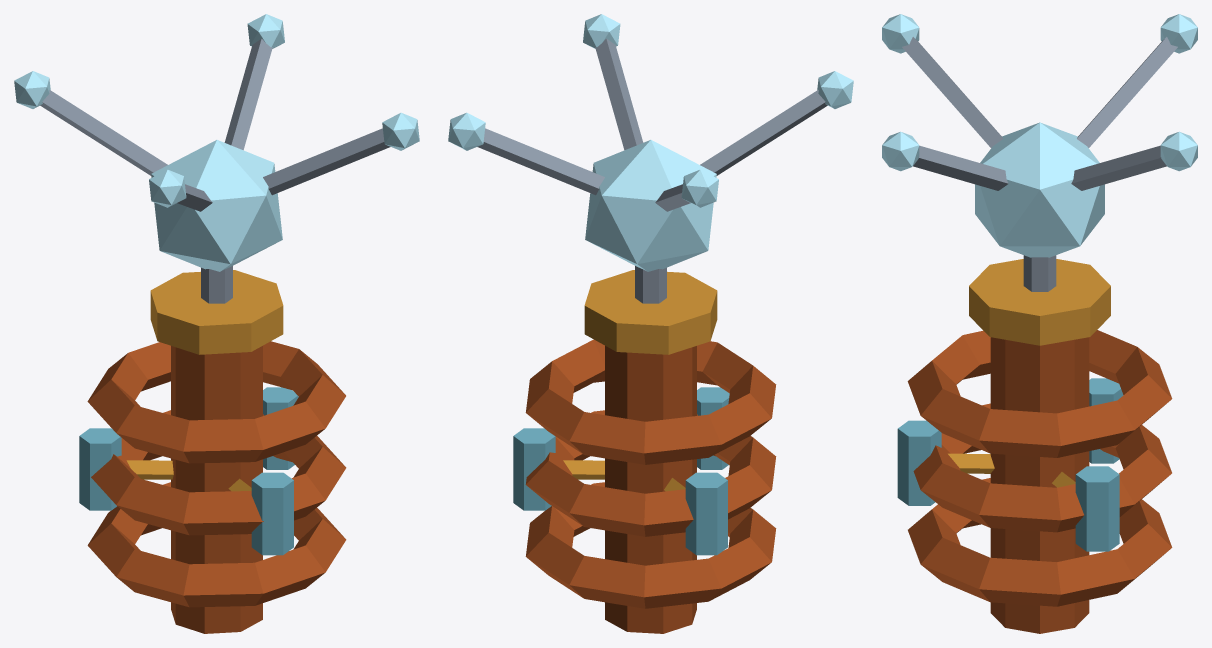
The model's file is TeslaA.obj.
The picture shows the model from 3 angles, left to right: view 1: azimuth 30°, elevation 25°; view 2: azimuth 150°, elevation 25°; view 3: azimuth 270°, elevation 25°; orthographic projection. The views are drawn at different scales.
Visible parts, largest first — view 1: TeslaA; view 2: TeslaA; view 3: TeslaA.
Boxes of the visible parts, bbox=[...] form: TeslaA: bbox=[14, 14, 419, 633]; TeslaA: bbox=[448, 14, 853, 633]; TeslaA: bbox=[882, 14, 1197, 633].
Size of the model in its own units: 0.5807 by 1.09 by 0.5772.
